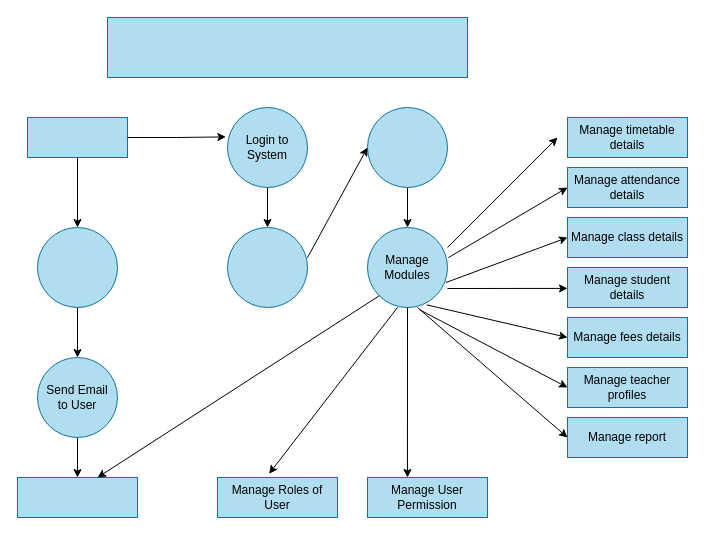
This 705x535 diagram has some shape labels left out. Here are the shapes that lost their labels. From the top down, the centre of each, then its label:
point (287, 47): Student Information System
point (77, 137): Admin
point (407, 147): Check Roles of Access
point (77, 267): Forgot Password
point (267, 267): Check credentials
point (77, 497): Manage System Admins
